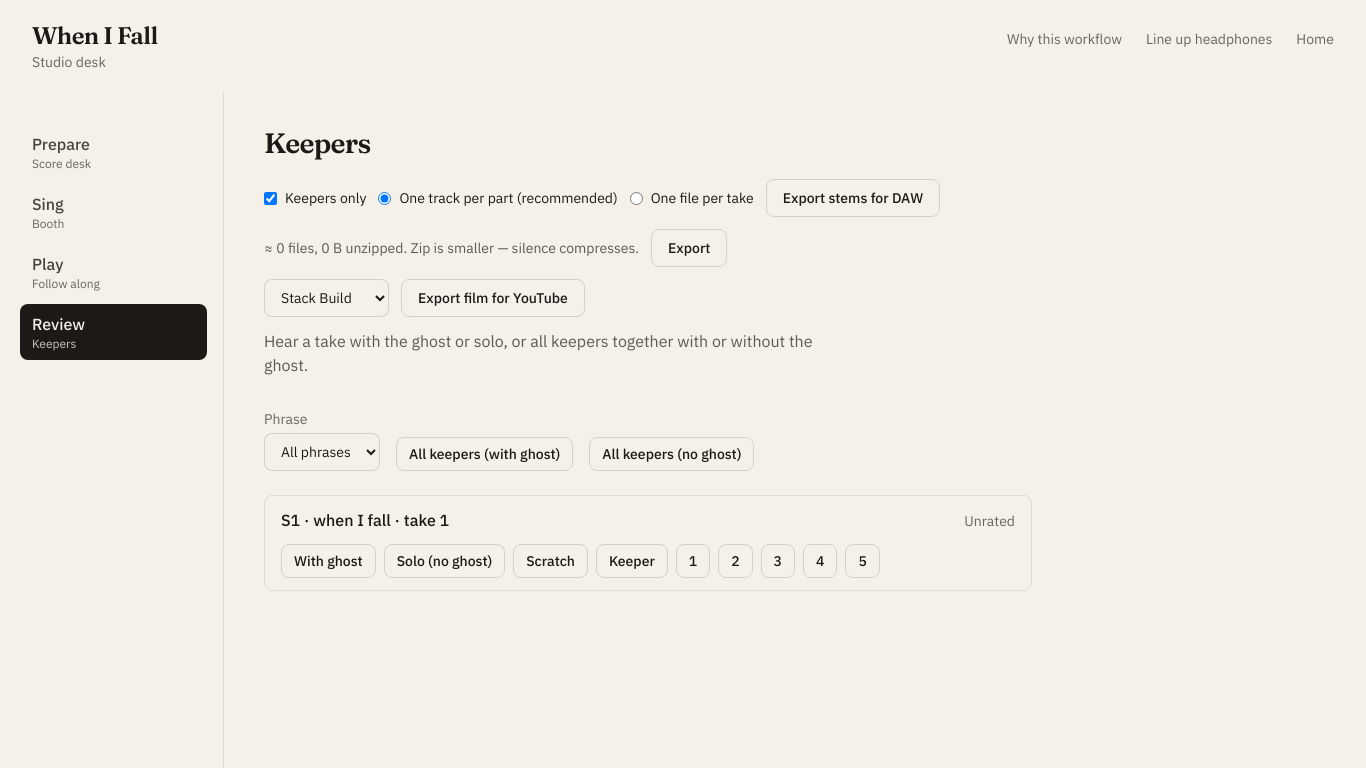
ReviewPage › shows an alert and does not download when exportFilmMp4 rejects
Click the button "Export film for YouTube". click: (493, 298)
box: [401, 279, 585, 317]
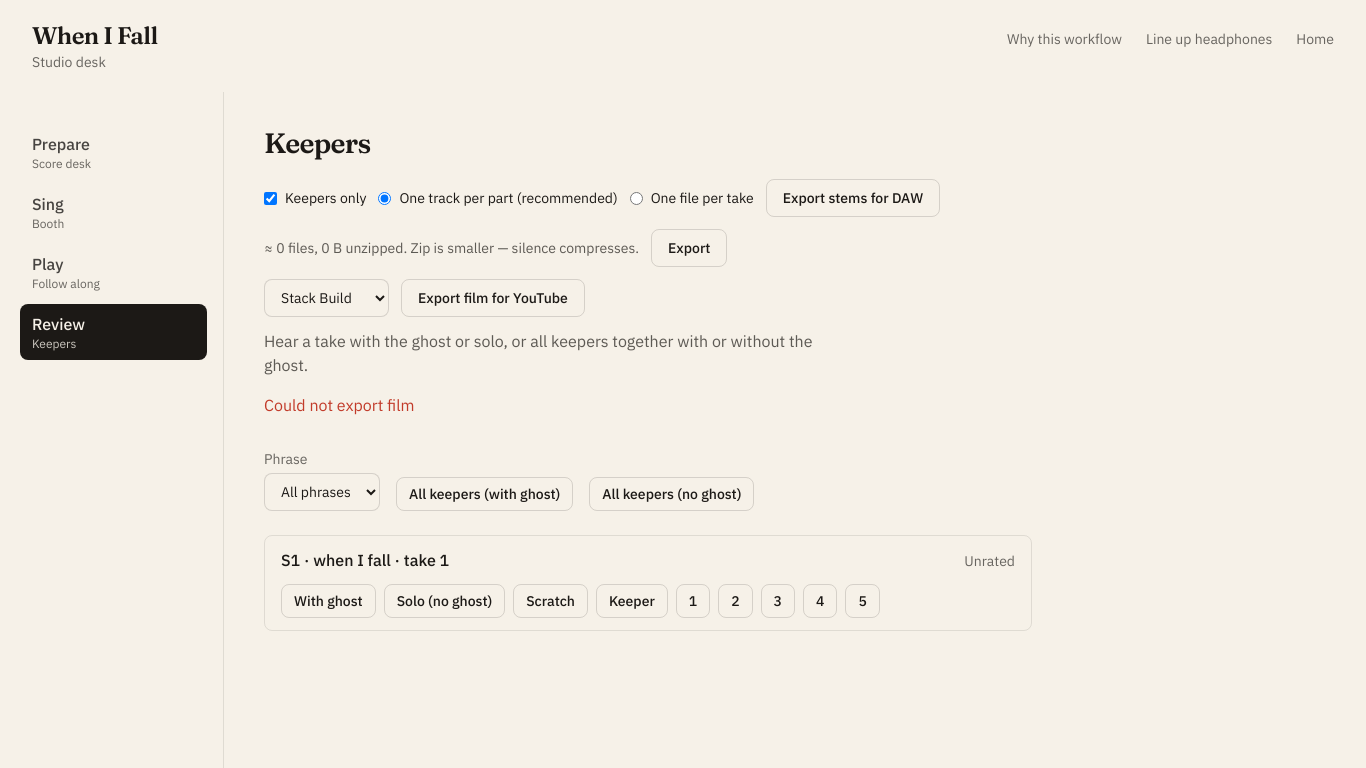
expect the message reads "Could not export film": met, box [264, 395, 414, 415]
